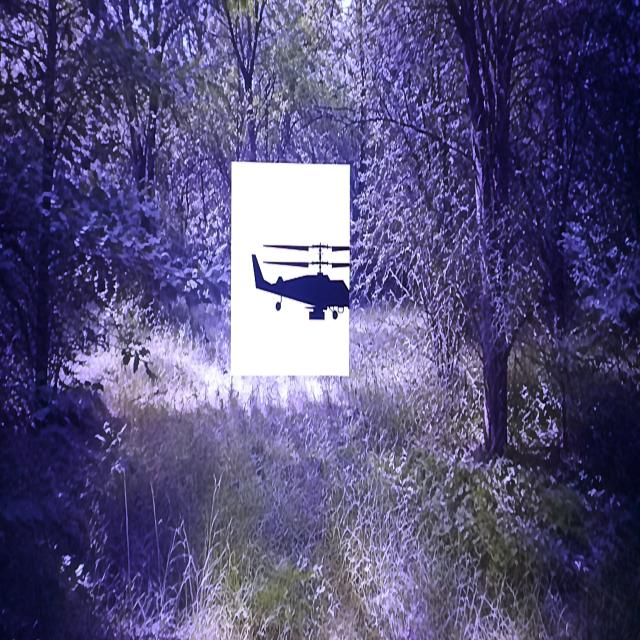Ka-52 Enemy: (252, 245, 349, 319)
